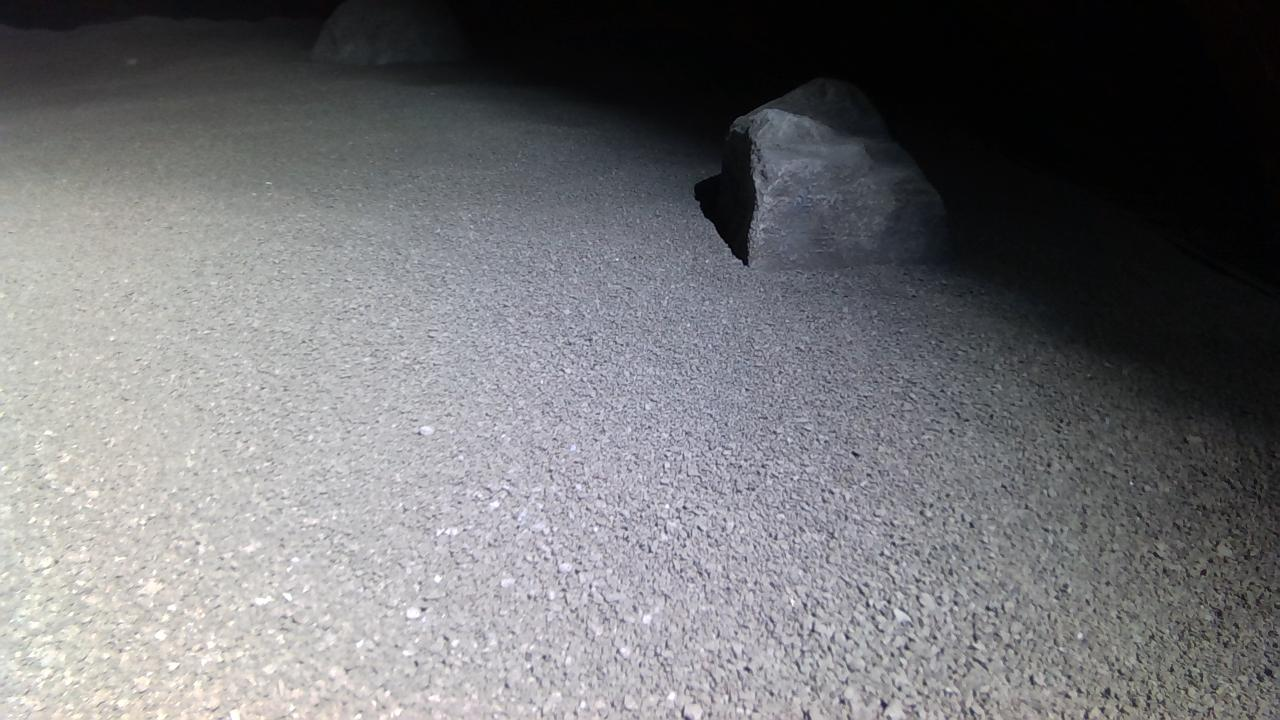rock: (717, 77, 950, 268), (313, 0, 469, 64)
